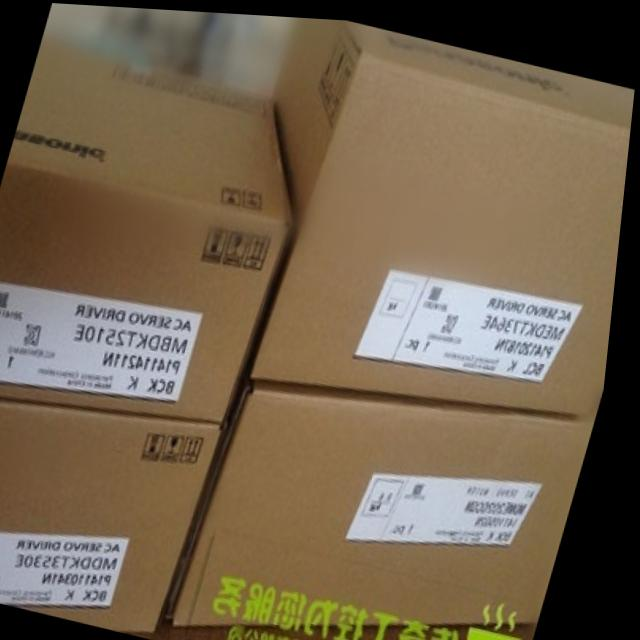box: (249, 14, 635, 411), (0, 35, 297, 423), (175, 373, 603, 623), (0, 398, 236, 629)
